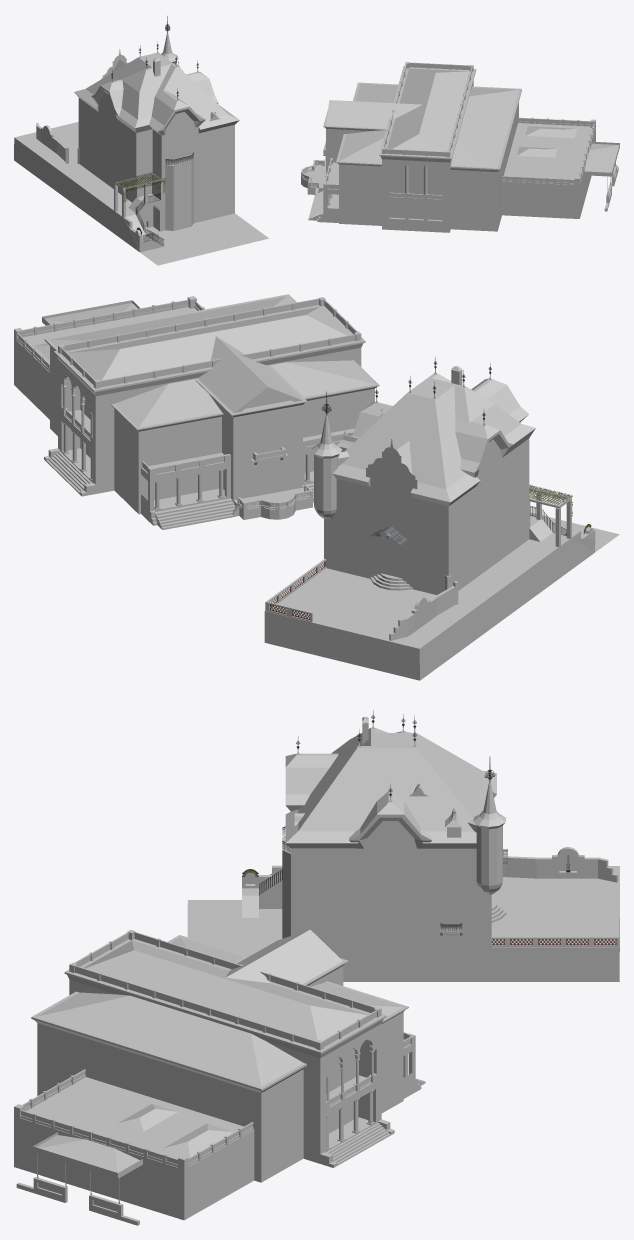
3 views of the same model, one above another, from view 1: azimuth 30°, elevation 25°; view 2: azimuth 150°, elevation 25°; view 3: azimuth 270°, elevation 25° (orthographic). The views are drawn at different scales.
Parts seen in each view (by area): view 1: BUILDING_1, Park Villa Rieter building_3, PNG_0, Park Villa Rieter PNG_2; view 2: Park Villa Rieter building_3, BUILDING_1, PNG_0, Park Villa Rieter PNG_2; view 3: BUILDING_1, Park Villa Rieter building_3, PNG_0, Park Villa Rieter PNG_2.
Boxes of the visible parts, x1=… form: BUILDING_1: x1=301, y1=62, x2=619, y2=232; Park Villa Rieter building_3: x1=14, y1=32, x2=268, y2=265; PNG_0: x1=302, y1=63, x2=619, y2=214; Park Villa Rieter PNG_2: x1=111, y1=16, x2=215, y2=245; Park Villa Rieter building_3: x1=264, y1=366, x2=619, y2=680; BUILDING_1: x1=14, y1=294, x2=379, y2=529; PNG_0: x1=18, y1=300, x2=355, y2=508; Park Villa Rieter PNG_2: x1=270, y1=357, x2=591, y2=619; BUILDING_1: x1=14, y1=929, x2=425, y2=1225; Park Villa Rieter building_3: x1=187, y1=717, x2=619, y2=981; PNG_0: x1=21, y1=934, x2=412, y2=1211; Park Villa Rieter PNG_2: x1=242, y1=710, x2=616, y2=945.
Bounding box in the file's own units: 72.31 × 23.46 × 56.73.
